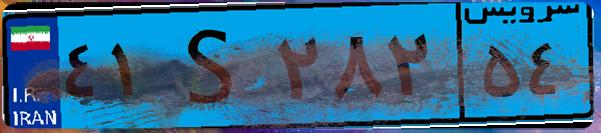1: (110, 28, 158, 98)
2: (270, 28, 330, 110), (385, 28, 445, 110)
4: (57, 26, 110, 100), (525, 38, 570, 115)
5: (475, 38, 525, 113)
8: (330, 28, 385, 110)
S: (158, 12, 270, 120)
